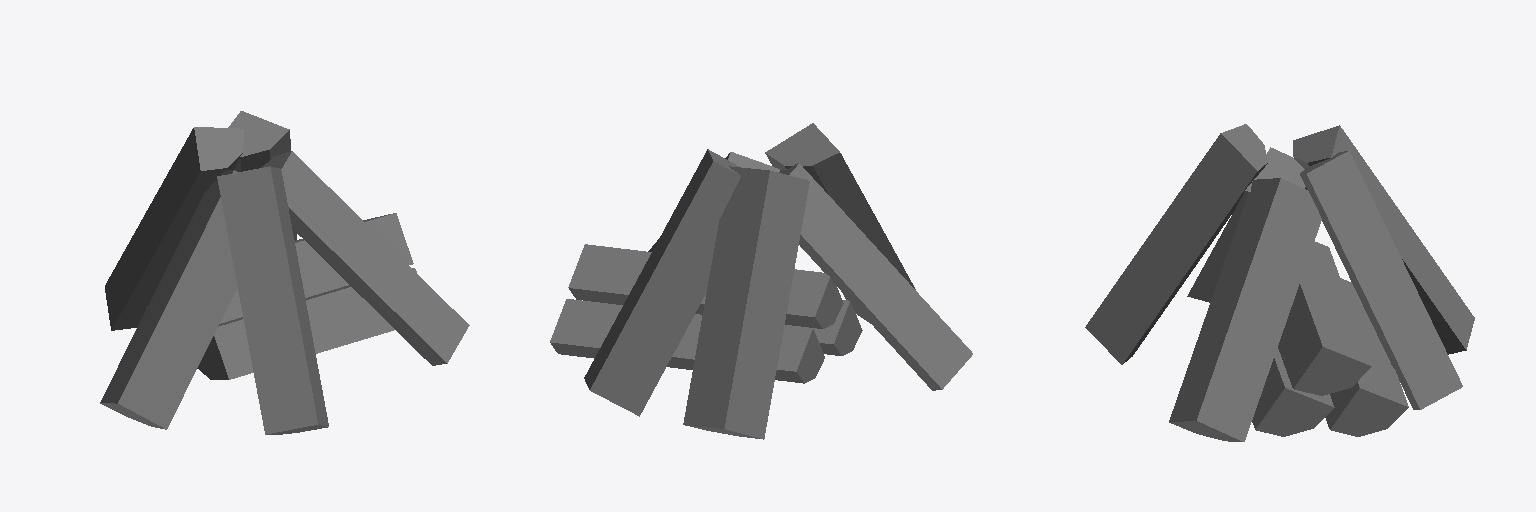
Rendered from buches.obj.
3 views of the same model, side by side, from view 1: azimuth 30°, elevation 25°; view 2: azimuth 150°, elevation 25°; view 3: azimuth 270°, elevation 25° (orthographic).
Parts seen in each view (by area): view 1: Campfire.001_meshId1_name; view 2: Campfire.001_meshId1_name; view 3: Campfire.001_meshId1_name.
Boxes of the visible parts, box(x1,y1,x2,y2) form: Campfire.001_meshId1_name: box(100, 111, 469, 434); Campfire.001_meshId1_name: box(550, 123, 972, 439); Campfire.001_meshId1_name: box(1085, 124, 1474, 441).
Bounding box in the file's own units: 0.9846 × 0.6306 × 0.9677.